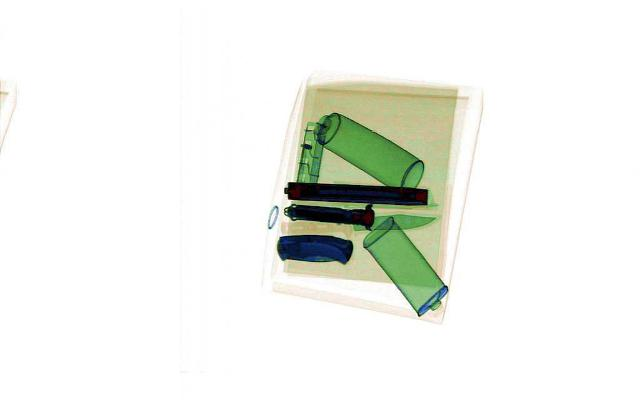Knife: (270, 232, 356, 264), (281, 200, 377, 226), (352, 210, 436, 232)
